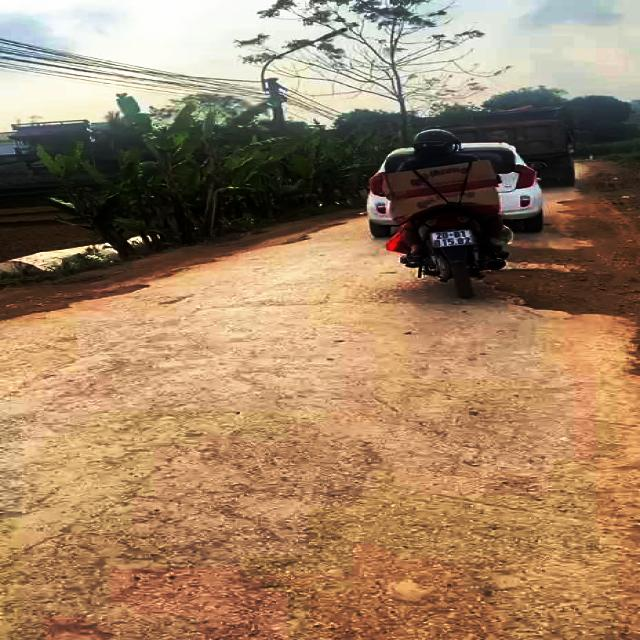pothole: (470, 264, 638, 323)
